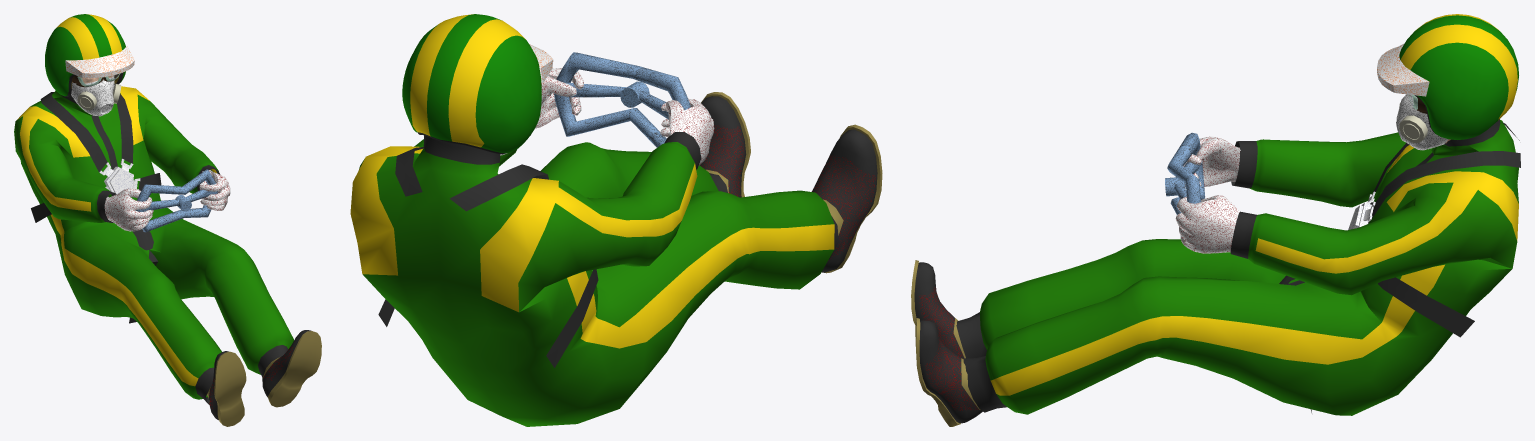
The model's file is drag-driver.fbx.
3 views of the same model, side by side, from view 1: azimuth 30°, elevation 25°; view 2: azimuth 150°, elevation 25°; view 3: azimuth 270°, elevation 25° (orthographic). The views are drawn at different scales.
Parts seen in each view (by area): view 1: Group4, Group5, Group3, Group7, Group2, Group1; view 2: Group4, Group5, Group7, Group3; view 3: Group4, Group5, Group3, Group7, Group2.
Part boxes in pixels (left/top/right/bottom): Group4: left=14, top=86, right=321, bottom=426; Group5: left=45, top=14, right=134, bottom=96; Group3: left=31, top=92, right=161, bottom=323; Group7: left=135, top=169, right=217, bottom=232; Group2: left=71, top=75, right=121, bottom=116; Group1: left=72, top=73, right=120, bottom=87; Group4: left=350, top=68, right=882, bottom=426; Group5: left=402, top=14, right=553, bottom=154; Group7: left=554, top=52, right=690, bottom=147; Group3: left=378, top=147, right=598, bottom=367; Group4: left=911, top=119, right=1518, bottom=426; Group5: left=1377, top=14, right=1518, bottom=140; Group3: left=1279, top=122, right=1520, bottom=412; Group7: left=1165, top=132, right=1205, bottom=214; Group2: left=1396, top=94, right=1448, bottom=150.
Size of the model in its own units: 30.56 by 51.26 by 71.57.
